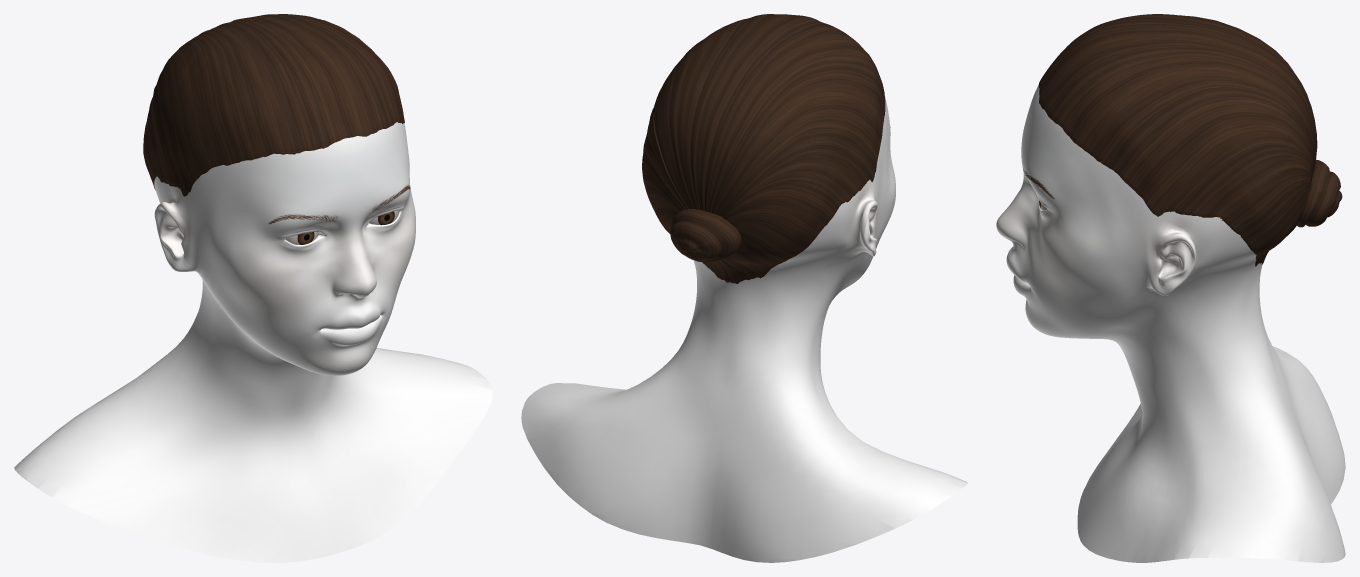
The model's file is head.glb.
The picture shows the model from 3 angles, left to right: view 1: azimuth 30°, elevation 25°; view 2: azimuth 150°, elevation 25°; view 3: azimuth 270°, elevation 25°; orthographic projection. The views are drawn at different scales.
Visible parts, largest first — view 1: skin, hair; view 2: skin, hair, hairbun; view 3: skin, hair, hairbun.
Part boxes in pixels (<box>): skin: <box>14,122,492,562</box>; hair: <box>143,14,404,196</box>; skin: <box>521,95,967,562</box>; hair: <box>642,14,885,283</box>; hairbun: <box>670,209,744,262</box>; skin: <box>996,85,1345,562</box>; hair: <box>1038,14,1317,266</box>; hairbun: <box>1297,159,1342,227</box>.
Bounding box in the file's own units: 3.21 × 3.36 × 2.16.
5 materials, 3 textured.
